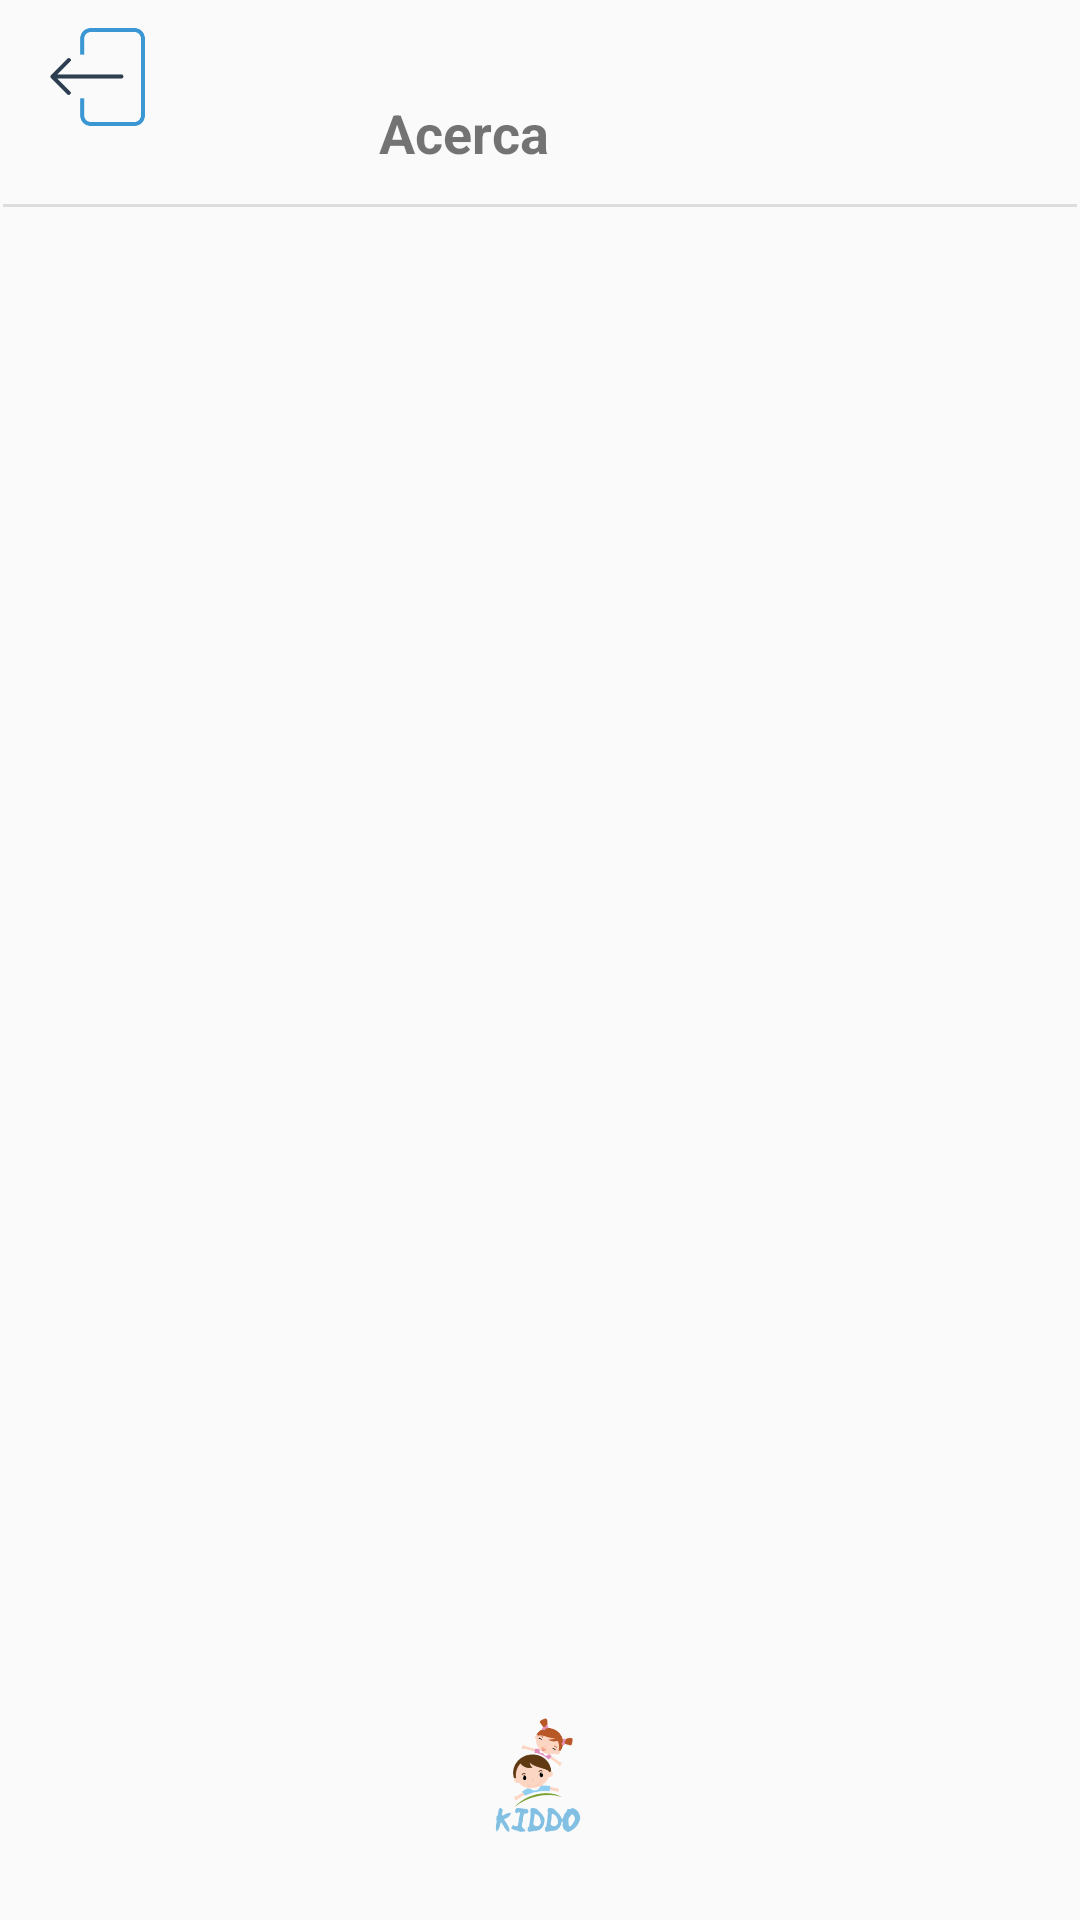

Where to tap for icons on this 1080 x 1920 app screen, as [x,y]:
voltar: [97,77]
